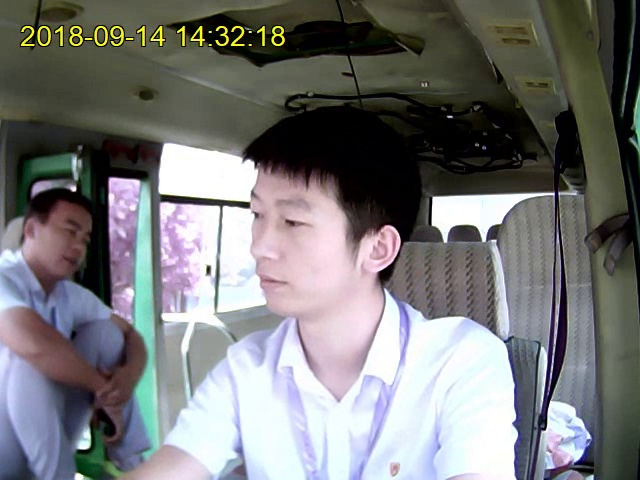closed_mouth: (257, 271, 290, 293)
